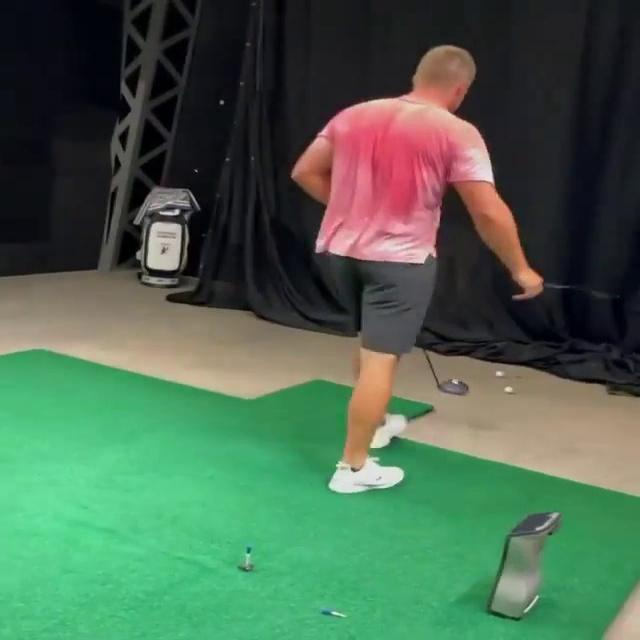ClubHead: (441, 380, 469, 397)
GolfBall: (494, 370, 504, 378), (504, 387, 514, 392)
